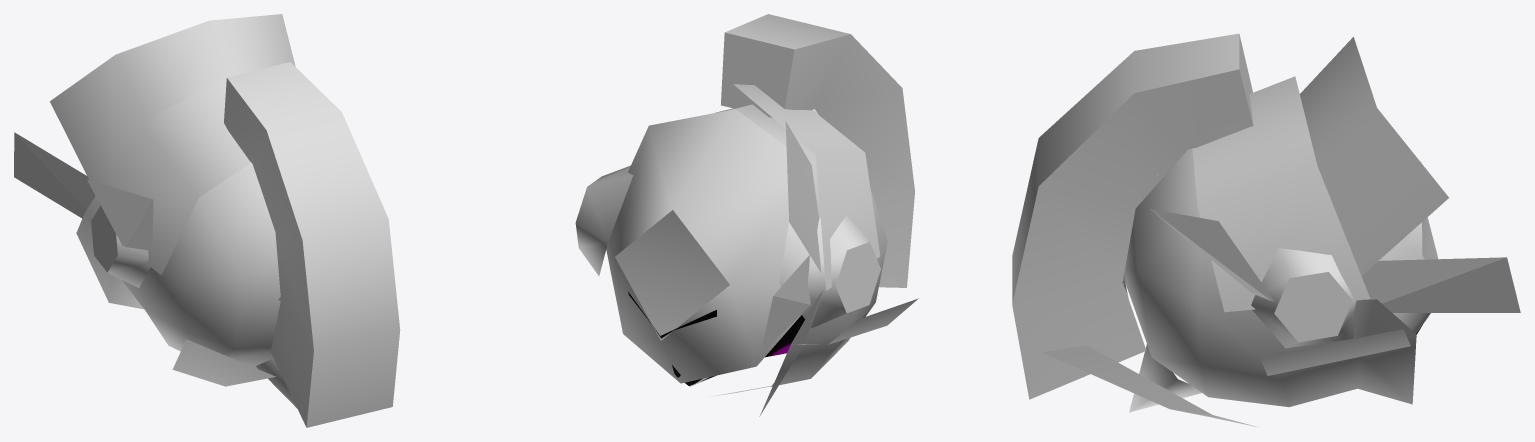
Rendered from model_recolor.glb.
3 views of the same model, side by side, from view 1: azimuth 30°, elevation 25°; view 2: azimuth 150°, elevation 25°; view 3: azimuth 270°, elevation 25° (orthographic). The views are drawn at different scales.
Visible parts, largest first — view 1: samurai.model_recolor-Mesh[0]; view 2: samurai.model_recolor-Mesh[0], face.part_model_face-Mesh[0]; view 3: samurai.model_recolor-Mesh[0].
Boxes of the visible parts, x1,y1,x2,y2 form: samurai.model_recolor-Mesh[0]: (14,14,400,427); samurai.model_recolor-Mesh[0]: (575,14,918,416); face.part_model_face-Mesh[0]: (628,291,804,385); samurai.model_recolor-Mesh[0]: (1012,33,1520,427).
Size of the model in its own units: 0.7417 by 0.6423 by 0.7834.
2 materials, 1 textured.
